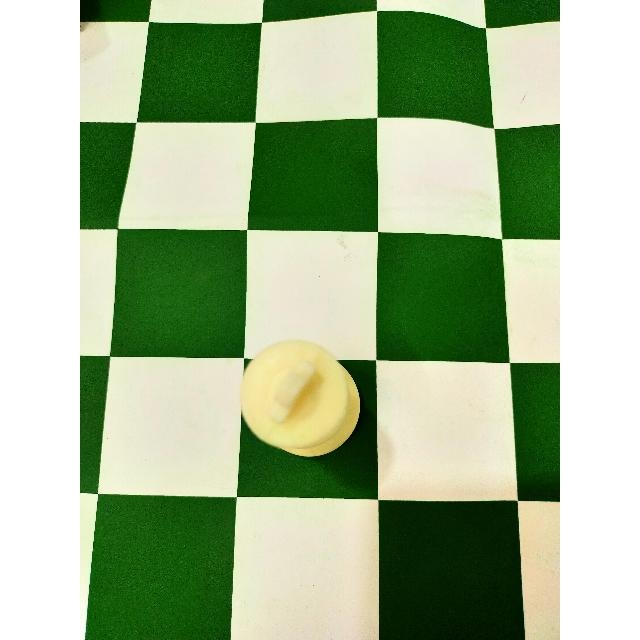white-king: (227, 332, 367, 476)
